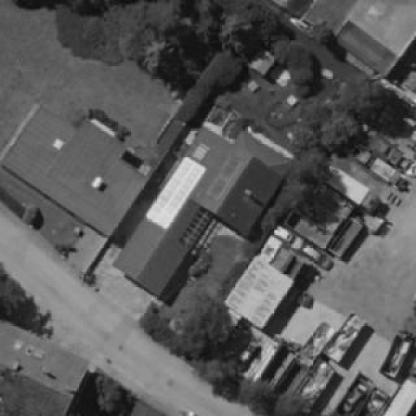solar-pv-panel: (144, 155, 205, 230), (205, 154, 241, 200)
